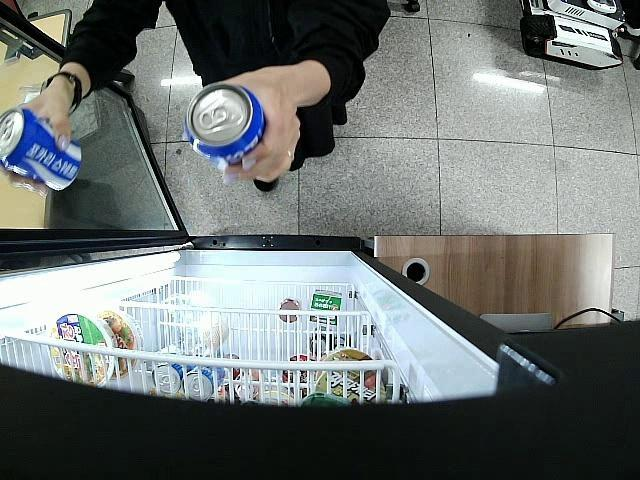13_pocariSweat: (0, 107, 83, 190), (185, 84, 266, 165)
